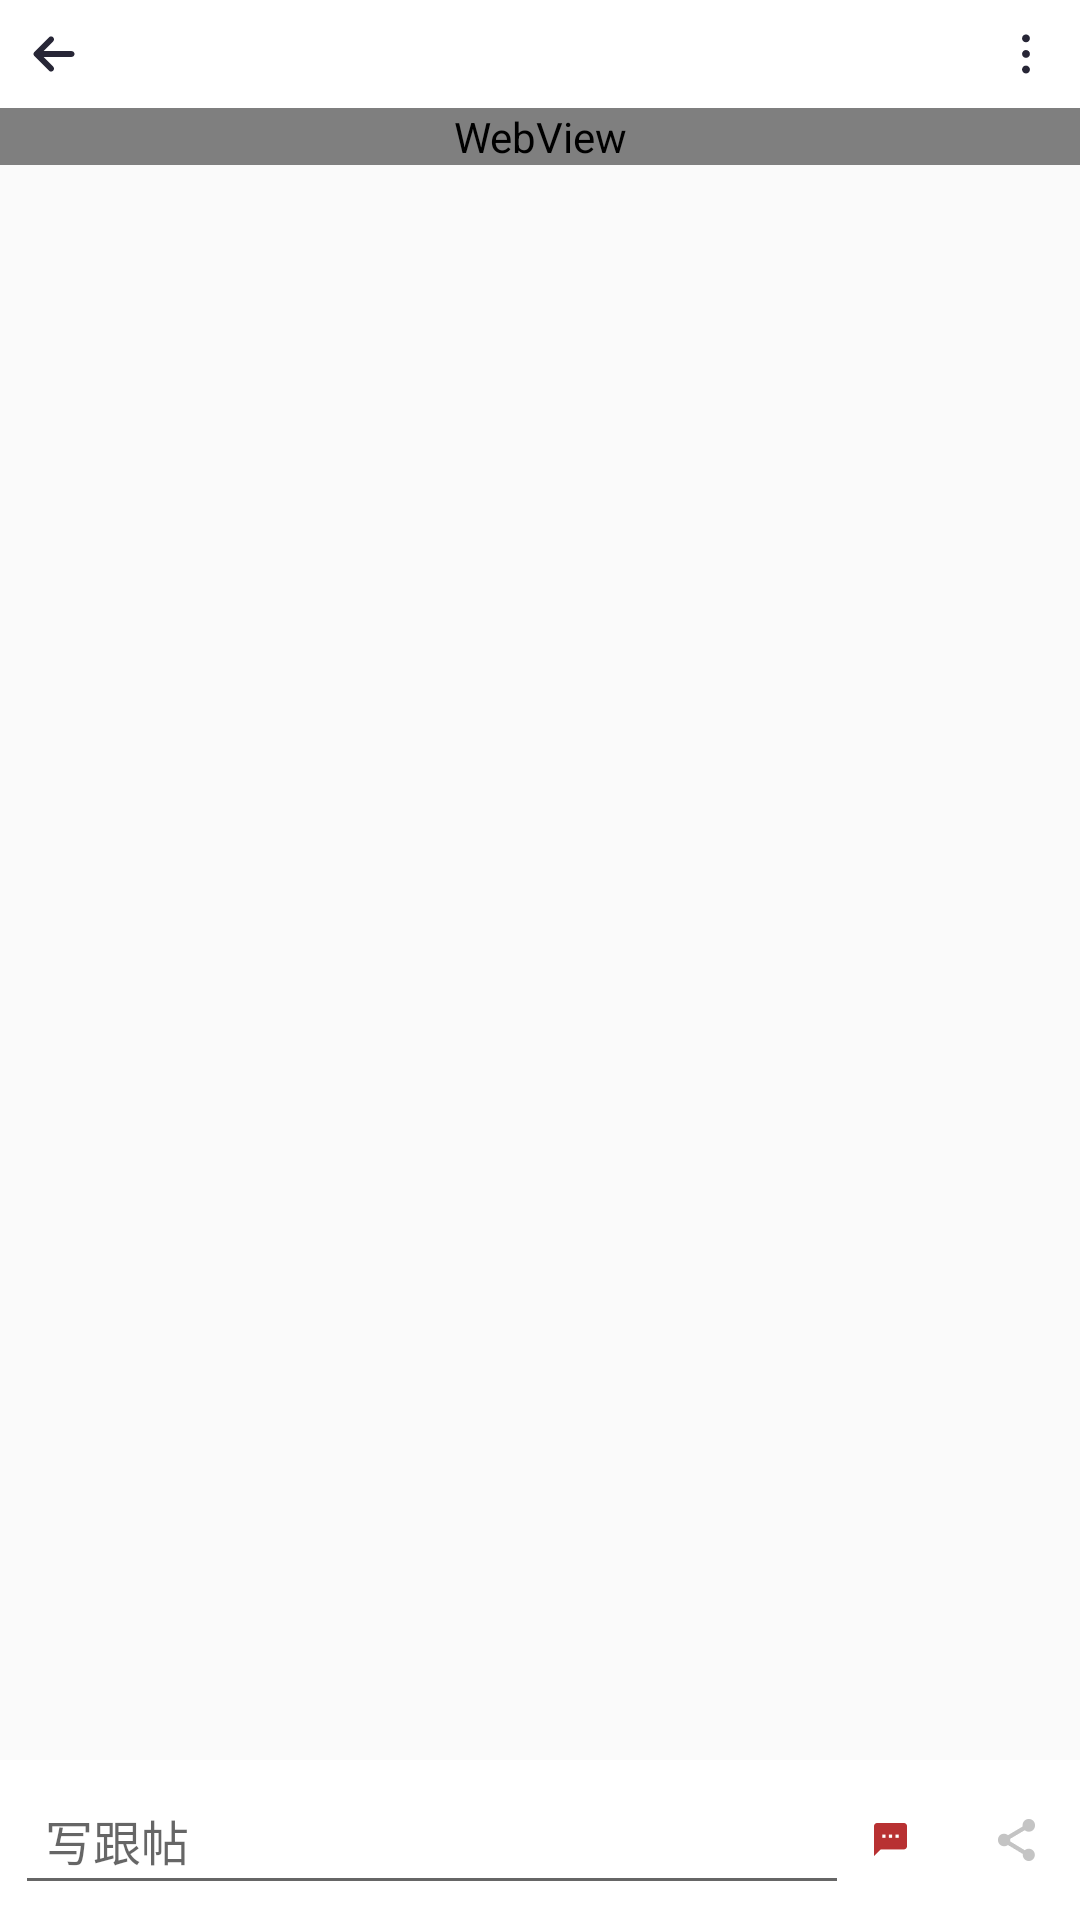

Icons on this 1080 × 1920 Android screen, each with the point to tap as point (x, y):
left arrow: point (54, 54)
vertical: point (1026, 54)
